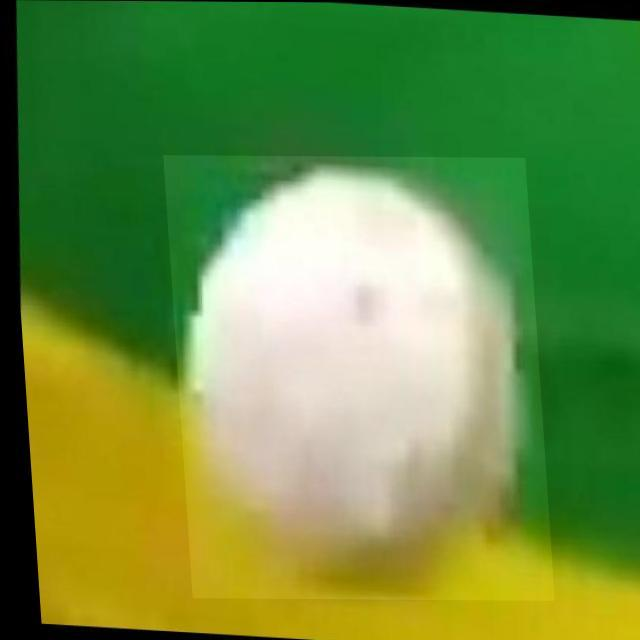-: (161, 155, 546, 600)
